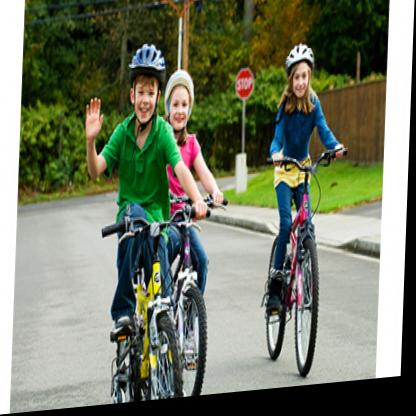With Helmet: (119, 45, 170, 130), (282, 45, 318, 111), (164, 70, 197, 139)
